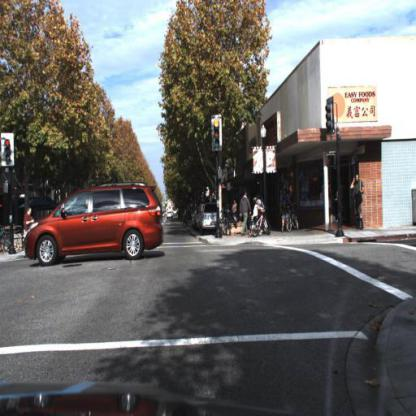car: (24, 180, 164, 267), (199, 200, 223, 239)
pedestrian: (270, 182, 307, 239), (249, 193, 271, 241), (352, 171, 369, 232), (279, 185, 293, 233), (238, 190, 252, 235), (240, 188, 252, 237), (251, 197, 262, 237), (25, 206, 35, 247), (183, 208, 188, 224)
trafficLight: (210, 112, 224, 155), (2, 129, 15, 171)
